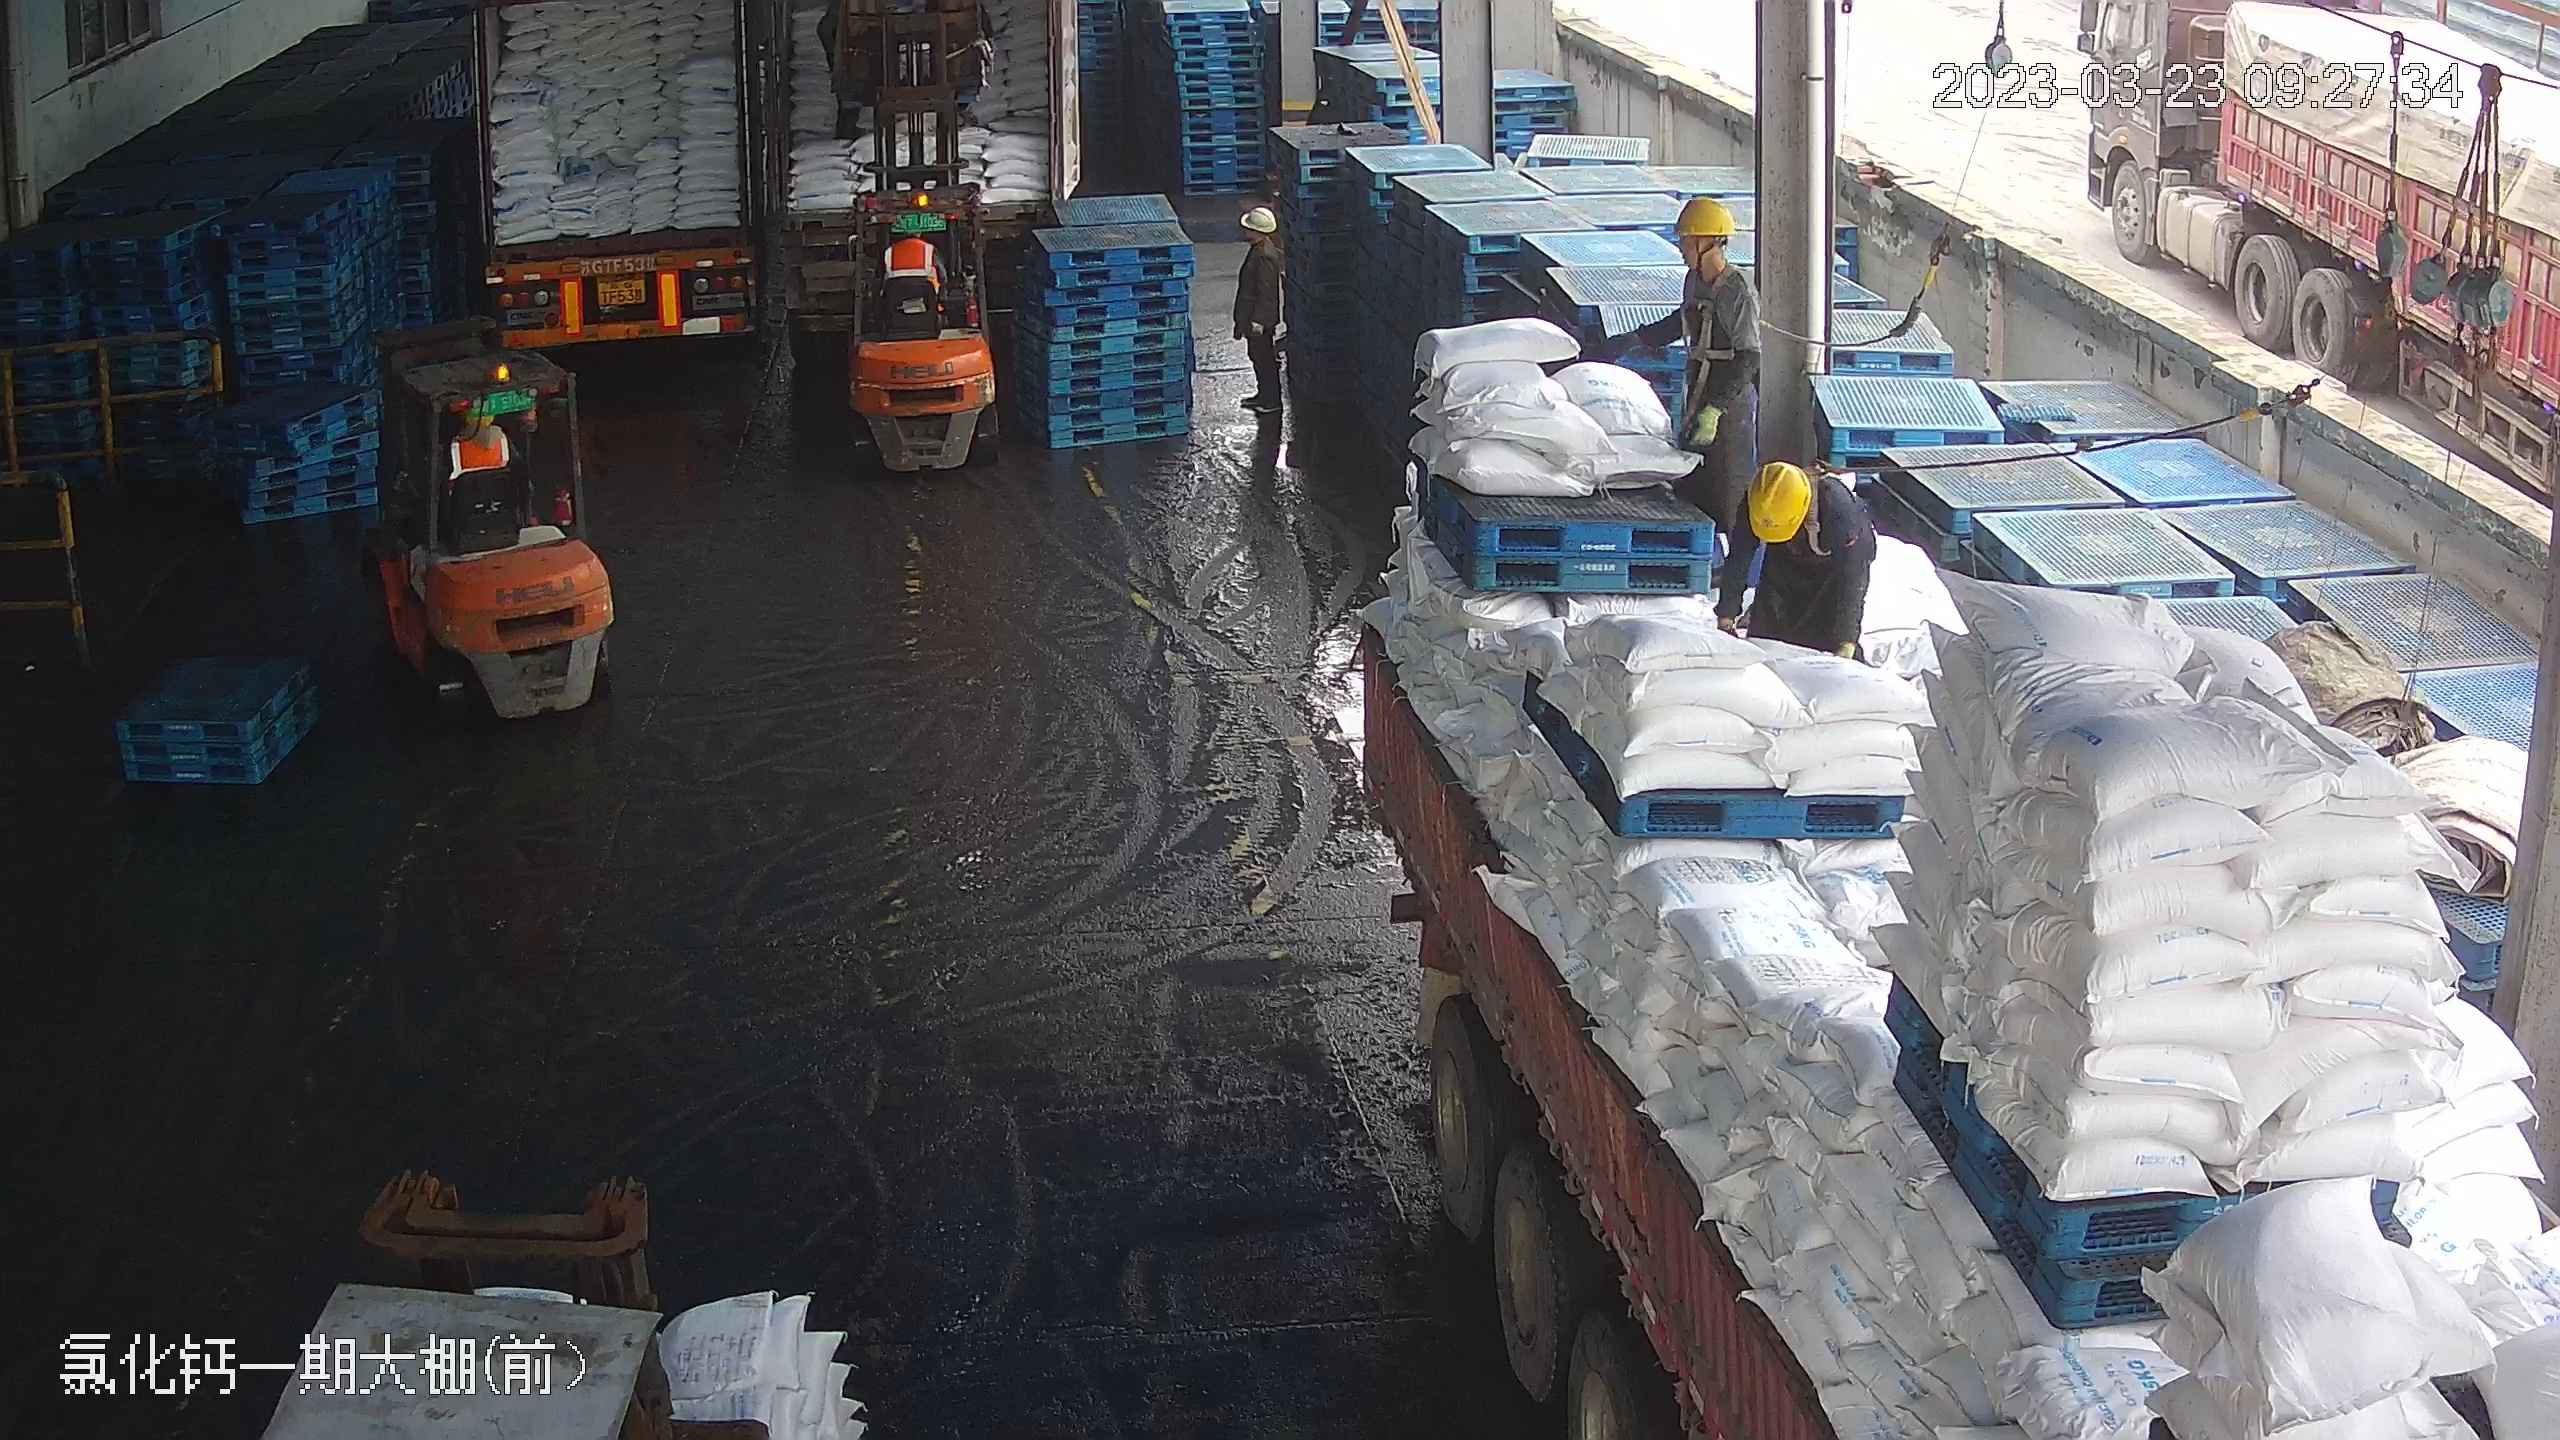belt: (1741, 457, 1852, 554), (1680, 263, 1761, 368)
head: (1731, 452, 1861, 559), (1661, 188, 1756, 320), (1234, 204, 1288, 282)
helmet: (1745, 458, 1811, 541), (1670, 192, 1736, 239), (1239, 204, 1277, 236)
people: (1638, 188, 1761, 586), (1719, 459, 1876, 666), (1233, 201, 1294, 480)
truck: (1289, 159, 2545, 1439), (454, 1, 807, 351)
